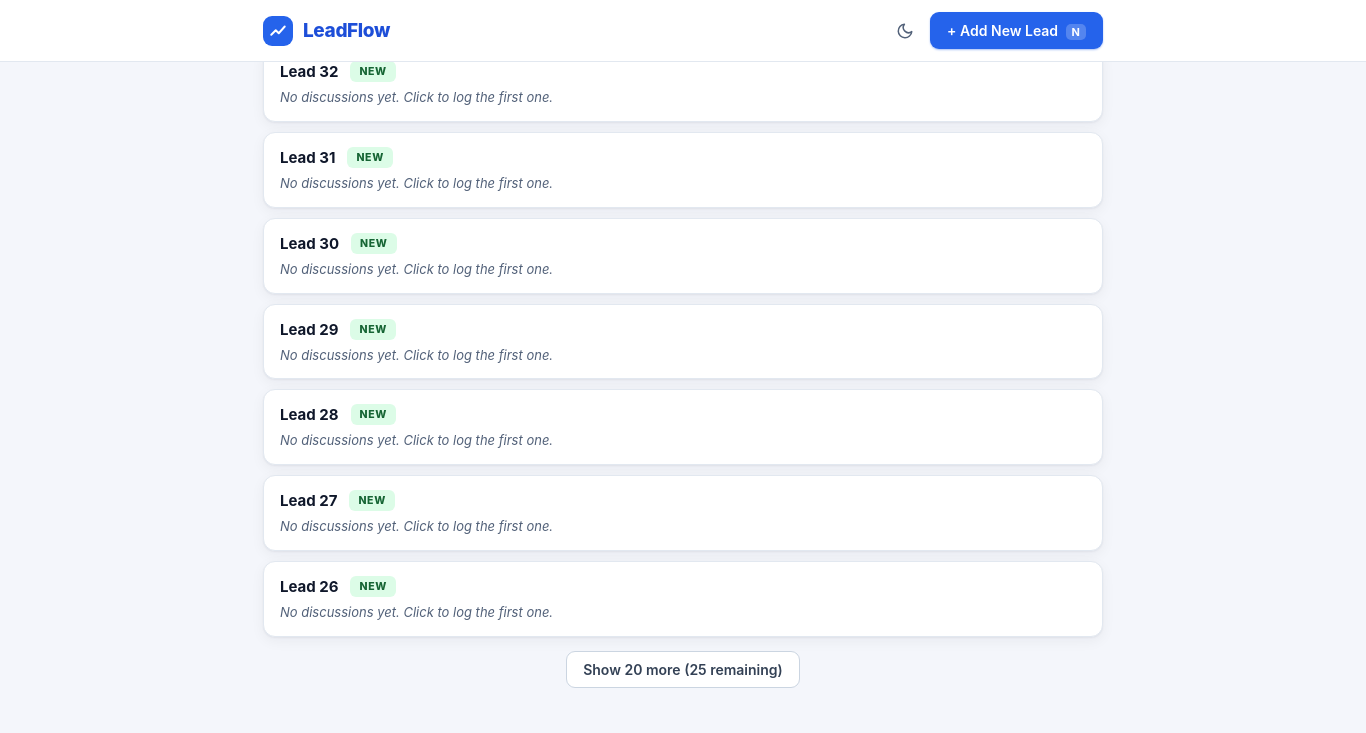
Test: lead list › pages long lists with "Show more"
(page scrolled)
Click the button "Show 20 more (25 remaining)" at (683,669), box [566,651,800,688]
(page scrolled)
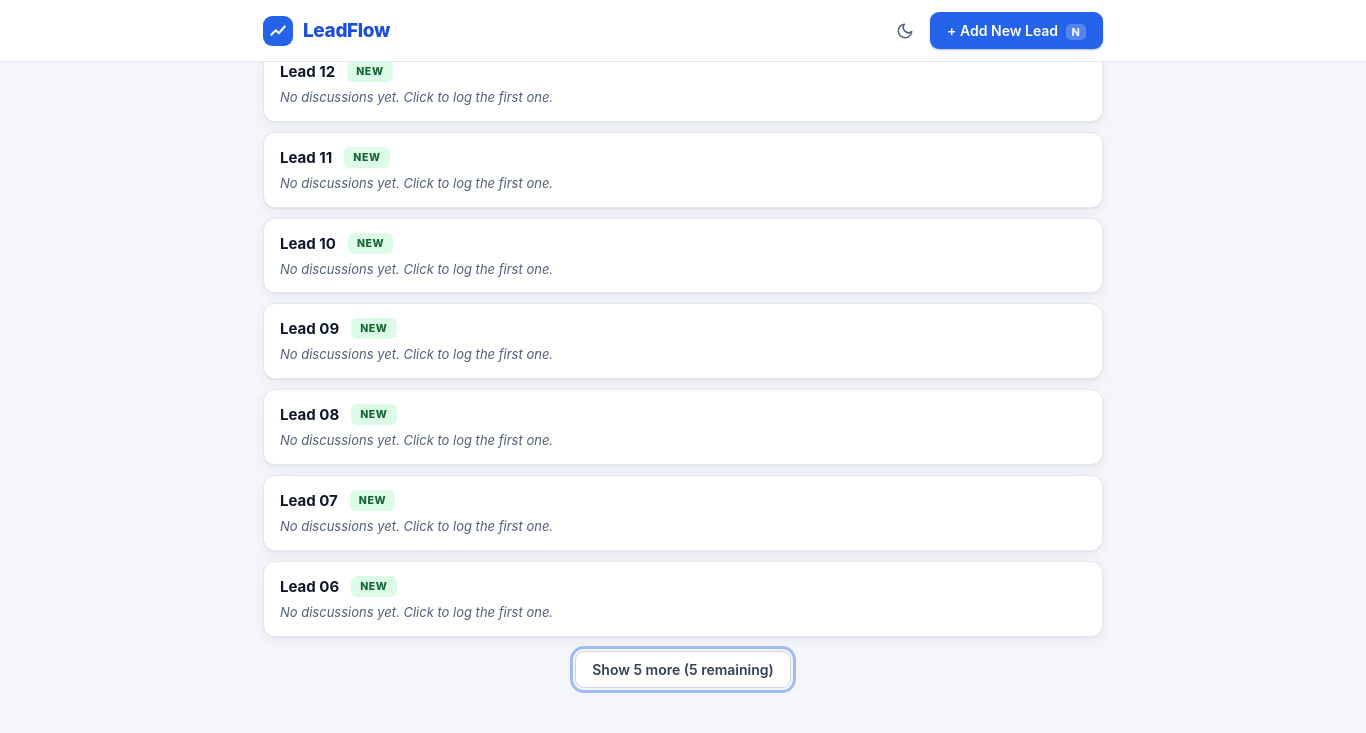
Click the button "Show 5 more (5 remaining)" at (683,669), box [575,651,791,688]
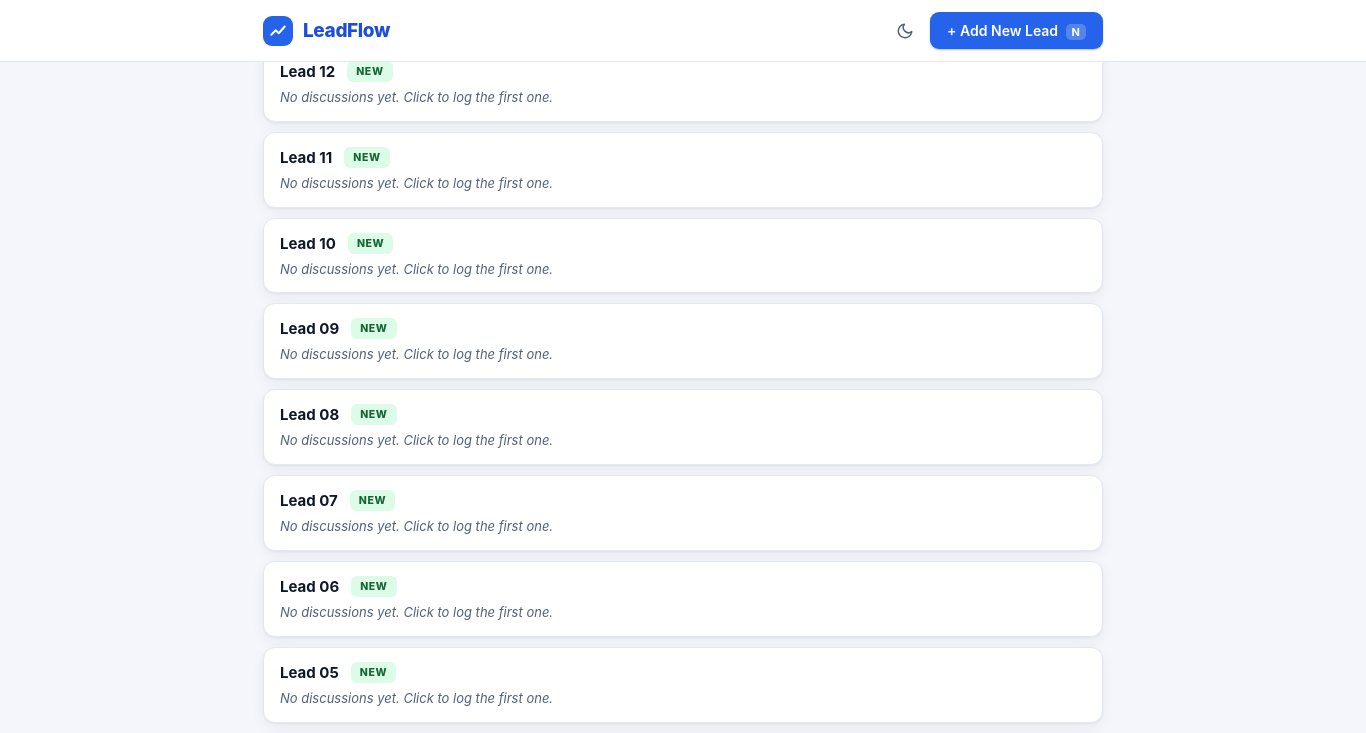
expect the button "Show 5 more (5 remaining)" is gone: met
